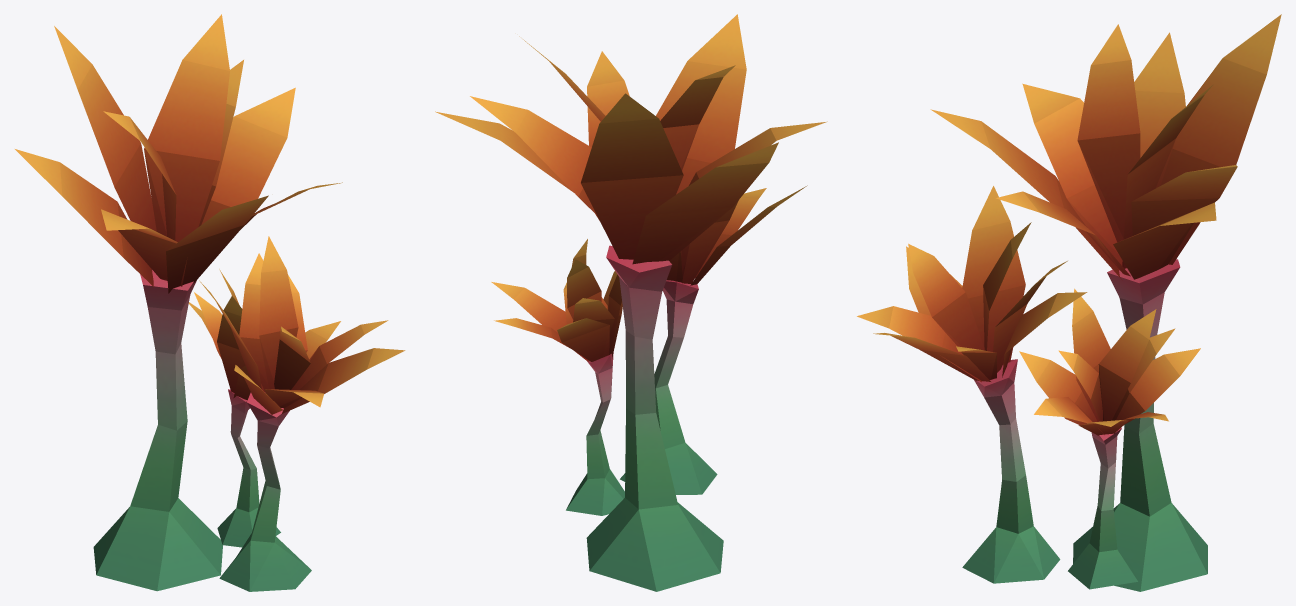
Rendered from plant_XL03.FBX.
3 renders of one model, left to right at view 1: azimuth 30°, elevation 25°; view 2: azimuth 150°, elevation 25°; view 3: azimuth 270°, elevation 25°, orthographic. The views are drawn at different scales.
Parts seen in each view (by area): view 1: plant_XL03; view 2: plant_XL03; view 3: plant_XL03.
Boxes of the visible parts, bbox=[...] form: plant_XL03: bbox=[15, 14, 405, 591]; plant_XL03: bbox=[435, 14, 827, 591]; plant_XL03: bbox=[857, 14, 1281, 591].
Bounding box in the file's own units: 165 × 259 × 188.
Materials: 1 (1 with a texture image).
